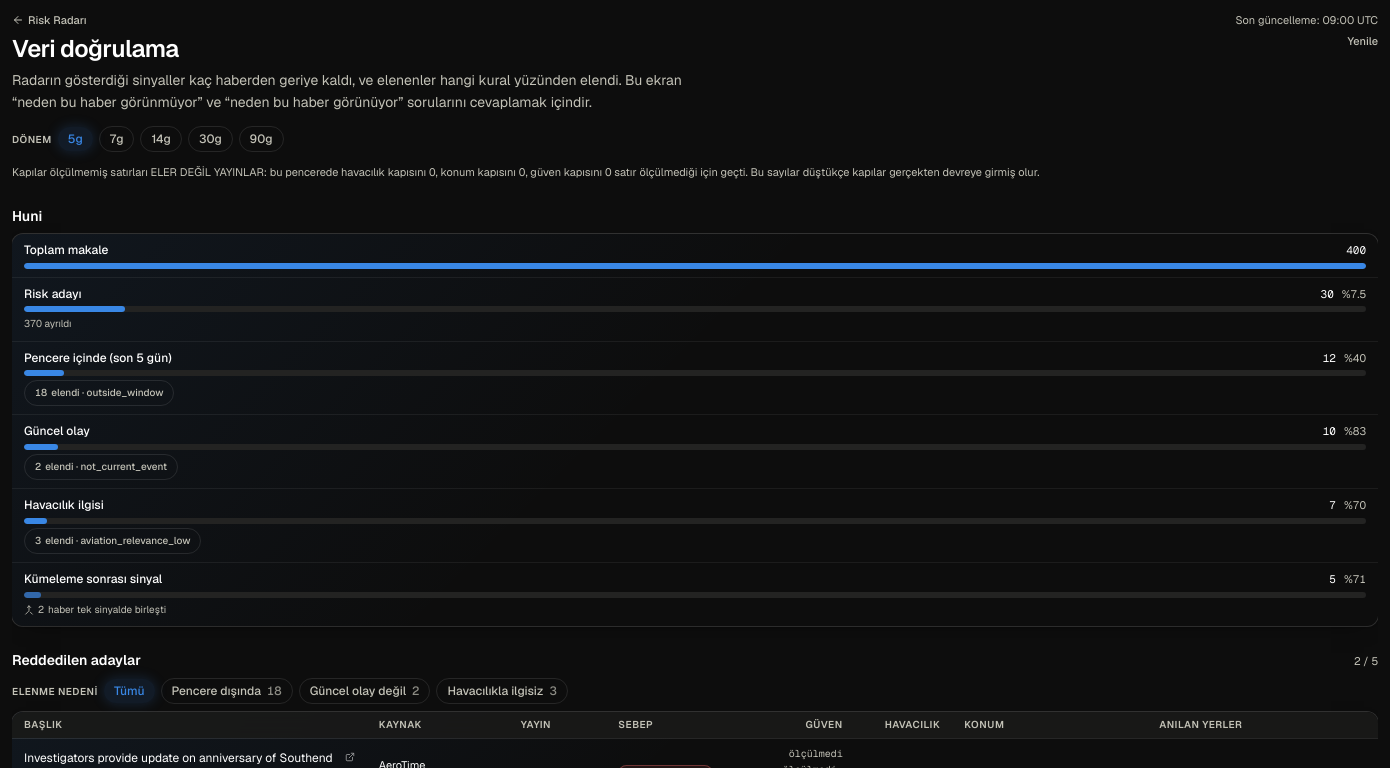
it: RiskVerificationClient › does not leave the previous reason's rows under the newly lit chip
Click the button "Havacılıkla ilgisiz 3". click: click(502, 691)
box: [436, 678, 568, 704]
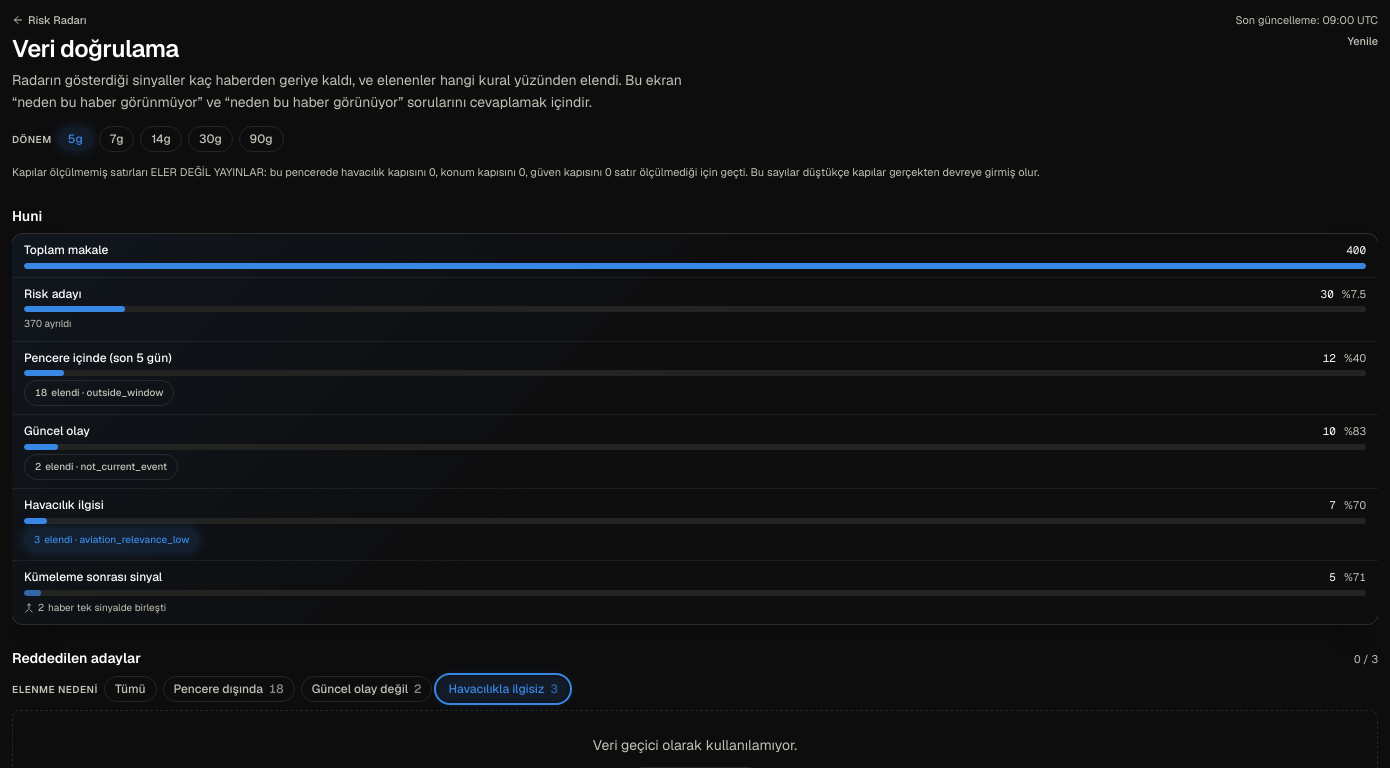
Expected: the text "Veri geçici olarak kullanılamıyor." is shown, [593, 735, 797, 755]
